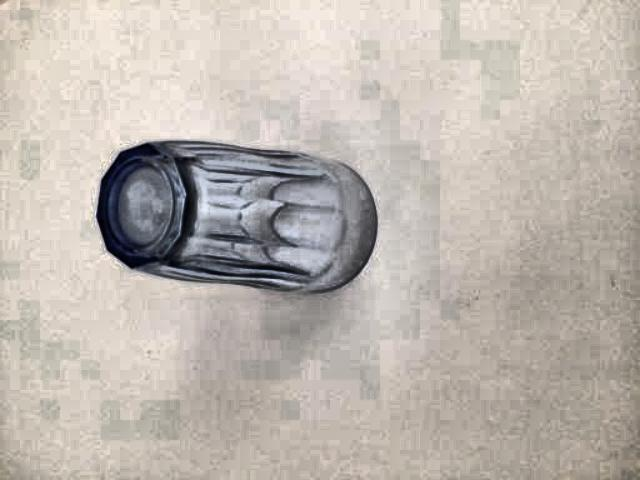Almennt: (94, 119, 428, 336)
